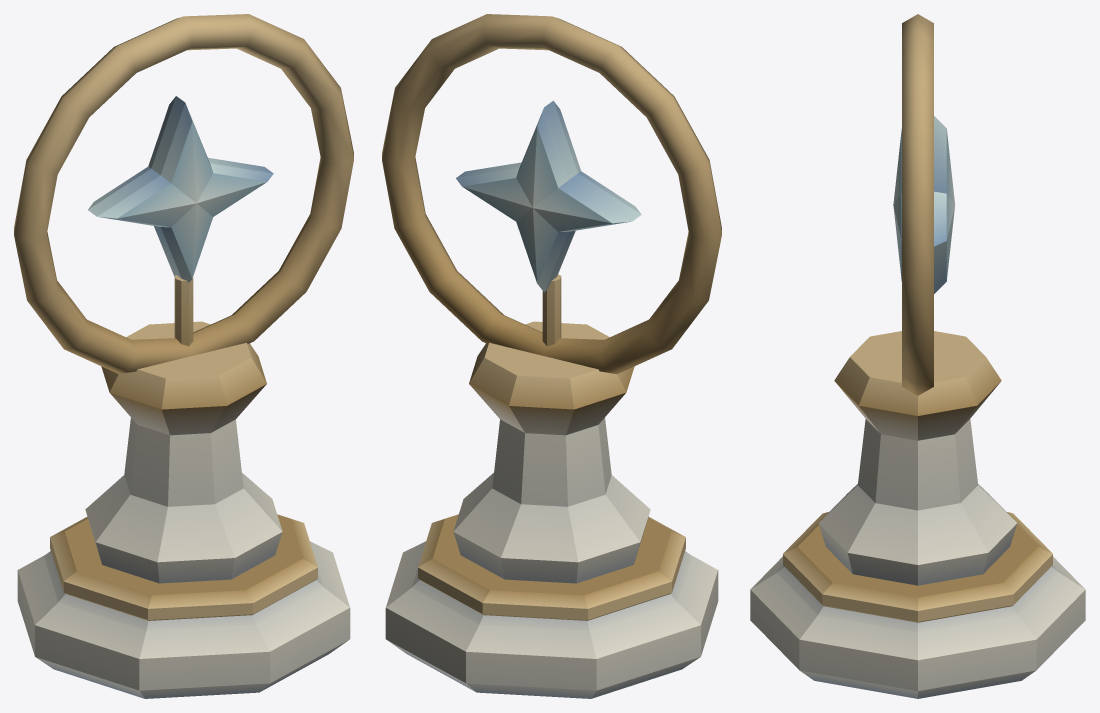
File: Sky_Celestial_Halo_Monument_LOD1.glb
3 renders of one model, left to right at view 1: azimuth 30°, elevation 25°; view 2: azimuth 150°, elevation 25°; view 3: azimuth 270°, elevation 25°, orthographic. The views are drawn at different scales.
Parts seen in each view (by area): view 1: Sky_Celestial_Halo_Monument_LOD1; view 2: Sky_Celestial_Halo_Monument_LOD1; view 3: Sky_Celestial_Halo_Monument_LOD1.
Part boxes in pixels (x1=…): Sky_Celestial_Halo_Monument_LOD1: x1=14, y1=14, x2=353, y2=698; Sky_Celestial_Halo_Monument_LOD1: x1=382, y1=14, x2=721, y2=698; Sky_Celestial_Halo_Monument_LOD1: x1=750, y1=14, x2=1085, y2=698.
Size of the model in its own units: 0.73 by 1.27 by 0.64.
